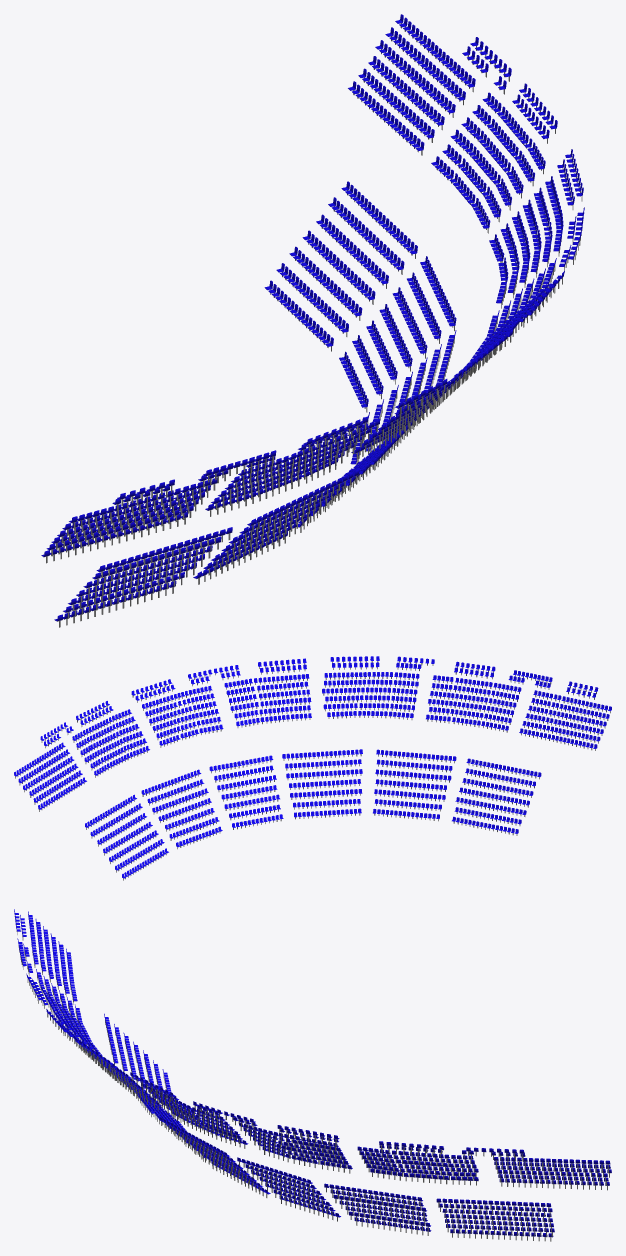
The model's file is sillas_LOD0.FBX.
The picture shows the model from 3 angles, top to bottom: view 1: azimuth 30°, elevation 25°; view 2: azimuth 150°, elevation 25°; view 3: azimuth 270°, elevation 25°; orthographic projection. The views are drawn at different scales.
Visible parts, largest first — view 1: sillas_LOD0_01, sillas_LOD0_07, sillas_LOD0_08, sillas_LOD0_13, sillas_LOD0_06, sillas_LOD0_12, sillas_LOD0_09, sillas_LOD0_02, sillas_LOD0_05, sillas_LOD0_11, sillas_LOD0_10, sillas_LOD0_03 (+1 smaller); view 2: sillas_LOD0_11, sillas_LOD0_12, sillas_LOD0_10, sillas_LOD0_13, sillas_LOD0_09, sillas_LOD0_06, sillas_LOD0_04, sillas_LOD0_05, sillas_LOD0_08, sillas_LOD0_01, sillas_LOD0_02, sillas_LOD0_03 (+1 smaller); view 3: sillas_LOD0_08, sillas_LOD0_01, sillas_LOD0_07, sillas_LOD0_09, sillas_LOD0_02, sillas_LOD0_10, sillas_LOD0_03, sillas_LOD0_13, sillas_LOD0_12, sillas_LOD0_04, sillas_LOD0_06, sillas_LOD0_11 (+1 smaller).
Boxes of the visible parts, <box> form: sillas_LOD0_01: <box>264,181,417,351</box>; sillas_LOD0_07: <box>348,14,506,155</box>; sillas_LOD0_08: <box>431,67,557,233</box>; sillas_LOD0_13: <box>41,463,246,563</box>; sillas_LOD0_06: <box>54,527,232,627</box>; sillas_LOD0_12: <box>205,416,380,516</box>; sillas_LOD0_09: <box>489,149,584,308</box>; sillas_LOD0_02: <box>339,256,456,412</box>; sillas_LOD0_05: <box>193,469,359,584</box>; sillas_LOD0_11: <box>351,329,513,459</box>; sillas_LOD0_10: <box>463,237,579,375</box>; sillas_LOD0_03: <box>350,330,456,464</box>; sillas_LOD0_11: <box>322,656,434,719</box>; sillas_LOD0_12: <box>426,661,536,732</box>; sillas_LOD0_10: <box>219,658,311,727</box>; sillas_LOD0_13: <box>519,675,611,750</box>; sillas_LOD0_09: <box>131,668,223,747</box>; sillas_LOD0_06: <box>452,758,541,835</box>; sillas_LOD0_04: <box>282,749,362,819</box>; sillas_LOD0_05: <box>373,749,456,821</box>; sillas_LOD0_08: <box>64,701,149,777</box>; sillas_LOD0_01: <box>85,794,168,880</box>; sillas_LOD0_02: <box>141,769,222,849</box>; sillas_LOD0_03: <box>209,755,283,829</box>; sillas_LOD0_08: <box>357,1141,478,1185</box>; sillas_LOD0_01: <box>436,1198,554,1241</box>; sillas_LOD0_07: <box>474,1147,611,1190</box>; sillas_LOD0_09: <box>217,1109,352,1173</box>; sillas_LOD0_02: <box>324,1183,431,1235</box>; sillas_LOD0_10: <box>130,1072,248,1148</box>; sillas_LOD0_03: <box>237,1157,340,1221</box>; sillas_LOD0_13: <box>14,909,77,1004</box>; sillas_LOD0_12: <box>19,948,102,1055</box>; sillas_LOD0_04: <box>160,1117,270,1197</box>; sillas_LOD0_06: <box>104,1013,172,1117</box>; sillas_LOD0_11: <box>46,1009,161,1110</box>.
Bounding box in the file's own units: 6888 × 1932 × 6859.
